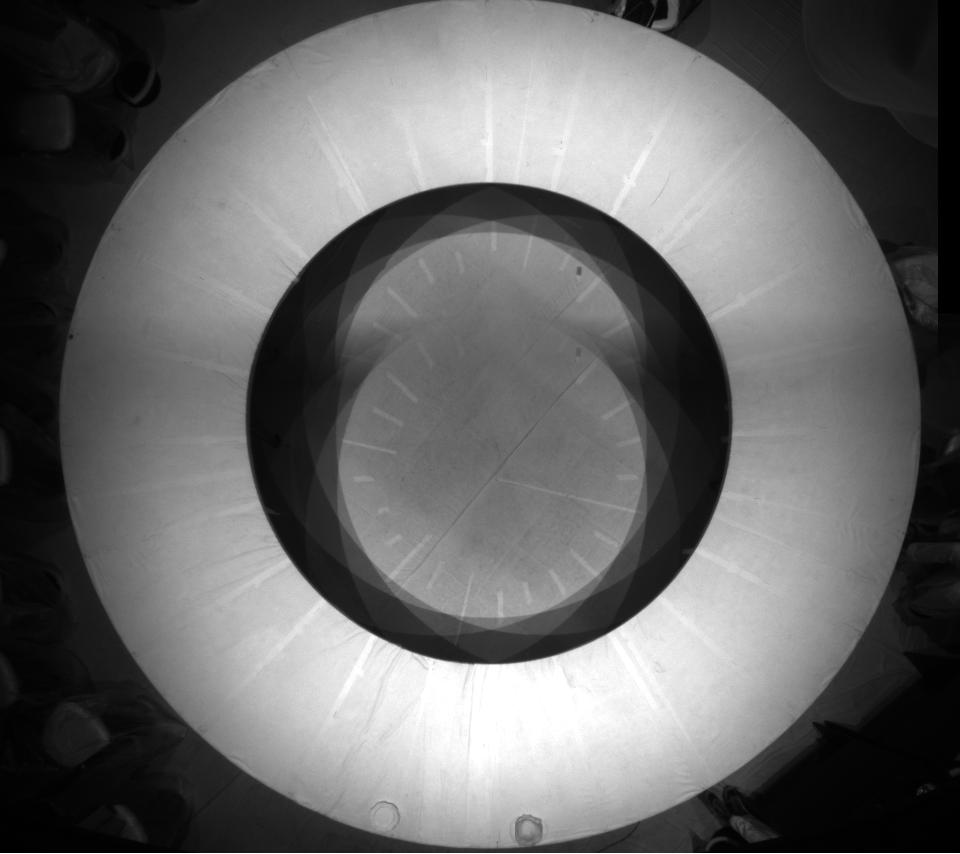Plate: (366, 799, 402, 834)
